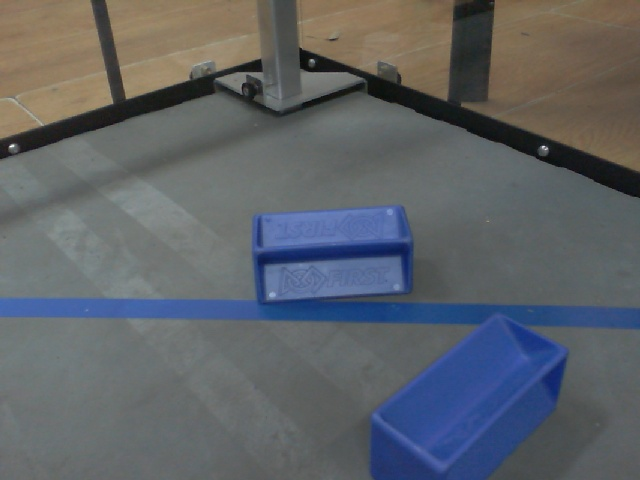BlueSample: (366, 311, 570, 480), (248, 202, 421, 306)
